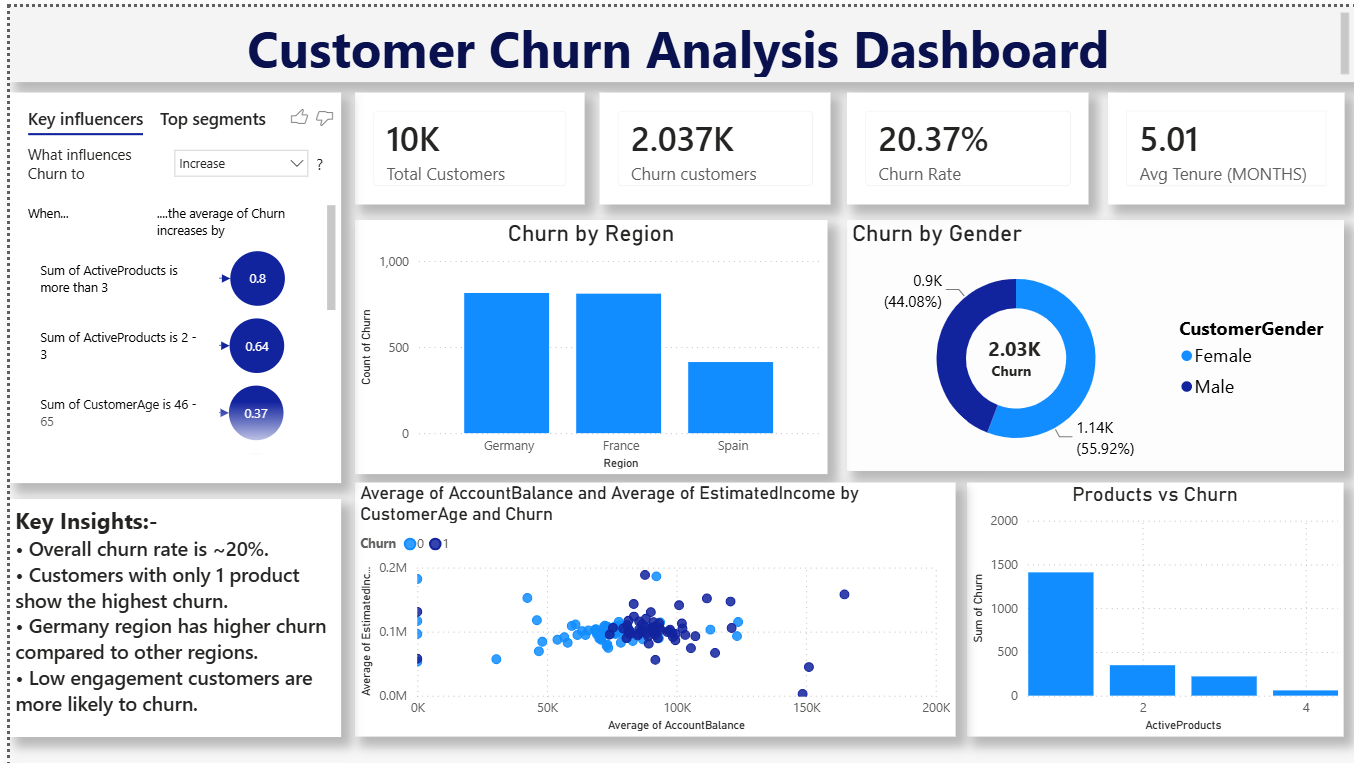

This screenshot's page, from the dashboard's own definition file:
{"tool":"powerbi","page":{"name":"Page 1","canvas":[1280,720],"ordinal":0},"visuals":[{"type":"textbox","box":[0,0,1280.4,71.6],"z":0},{"type":"cardVisual","fields":{"Data":["CountNonNull(clean_customer_data.AccountBalance)"]},"box":[328.3,81.7,218.3,106.7],"z":1000},{"type":"cardVisual","fields":{"Data":["CountNonNull(clean_customer_data.Churn)"]},"box":[561.7,81.7,220,106.7],"z":2000},{"type":"cardVisual","fields":{"Data":["Avg(clean_customer_data.RelationshipTenure)"]},"box":[1045,81.7,225,106.7],"z":3000},{"type":"cardVisual","fields":{"Data":["clean_customer_data.Churn Rate"]},"box":[796.7,81.7,230,106.7],"z":4000},{"type":"donutChart","title":"Churn by Gender","fields":{"Category":["clean_customer_data.CustomerGender"],"Y":["CountNonNull(clean_customer_data.Churn)"]},"box":[796.7,203.3,473.3,238.3],"z":5000},{"type":"textbox","box":[911.7,306.7,96.7,133.3],"z":6000},{"type":"clusteredColumnChart","title":"Churn by Region","fields":{"Category":["clean_customer_data.Region"],"Y":["CountNonNull(clean_customer_data.Churn)"]},"box":[328.3,203.3,450,241.7],"z":7000},{"type":"clusteredColumnChart","title":"Products vs Churn","fields":{"Category":["clean_customer_data.ActiveProducts"],"Y":["Sum(clean_customer_data.Churn)"]},"box":[911.7,453.3,358.3,241.7],"z":8000},{"type":"scatterChart","fields":{"X":["Avg(clean_customer_data.AccountBalance)"],"Y":["Avg(clean_customer_data.EstimatedIncome)"],"Series":["clean_customer_data.Churn"],"Category":["clean_customer_data.CustomerAge"]},"box":[328.3,453.3,571.7,241.7],"z":9000},{"type":"keyDriversVisual","fields":{"Target":["clean_customer_data.Churn"],"ExplainBy":["Sum(clean_customer_data.CustomerAge)","Sum(clean_customer_data.AccountBalance)","Sum(clean_customer_data.ActiveProducts)","Sum(clean_customer_data.EstimatedIncome)","Sum(clean_customer_data.IsActiveUser)","clean_customer_data.Region","clean_customer_data.CustomerGender","Sum(clean_customer_data.RelationshipTenure)"]},"box":[0,81.7,315,371.7],"z":10000},{"type":"textbox","box":[0,468.3,315,226.7],"z":11000}]}

Visuals, with their boxes in screenshot pixels (x1, y1, x2, y2), scaled from the page's 1280x720 canvas onto the 1354x763 screenshot:
textbox: 0:0:1353:76
cardVisual - CountNonNull(clean_customer_data.AccountBalance): 347:87:578:200
cardVisual - CountNonNull(clean_customer_data.Churn): 594:87:827:200
cardVisual - Avg(clean_customer_data.RelationshipTenure): 1105:87:1343:200
cardVisual - clean_customer_data.Churn Rate: 843:87:1086:200
"Churn by Gender" donutChart: 843:215:1343:468
textbox: 964:325:1067:466
"Churn by Region" clusteredColumnChart: 347:215:823:472
"Products vs Churn" clusteredColumnChart: 964:480:1343:737
scatterChart - Avg(clean_customer_data.AccountBalance) x Avg(clean_customer_data.EstimatedIncome): 347:480:952:737
keyDriversVisual - clean_customer_data.Churn x Sum(clean_customer_data.CustomerAge): 0:87:333:480
textbox: 0:496:333:737
